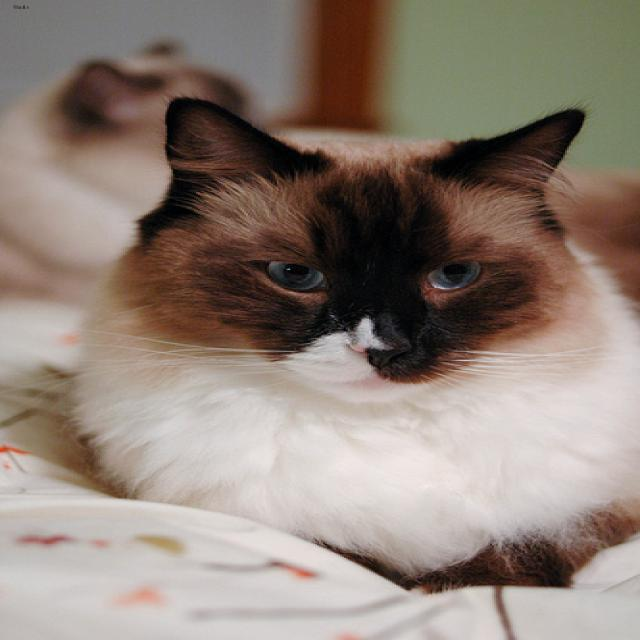Ragdoll: (164, 96, 583, 401)
